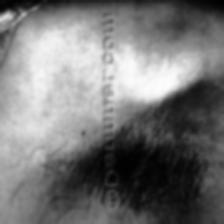Non-Cancerous Skin Condition: (116, 132, 202, 214)
